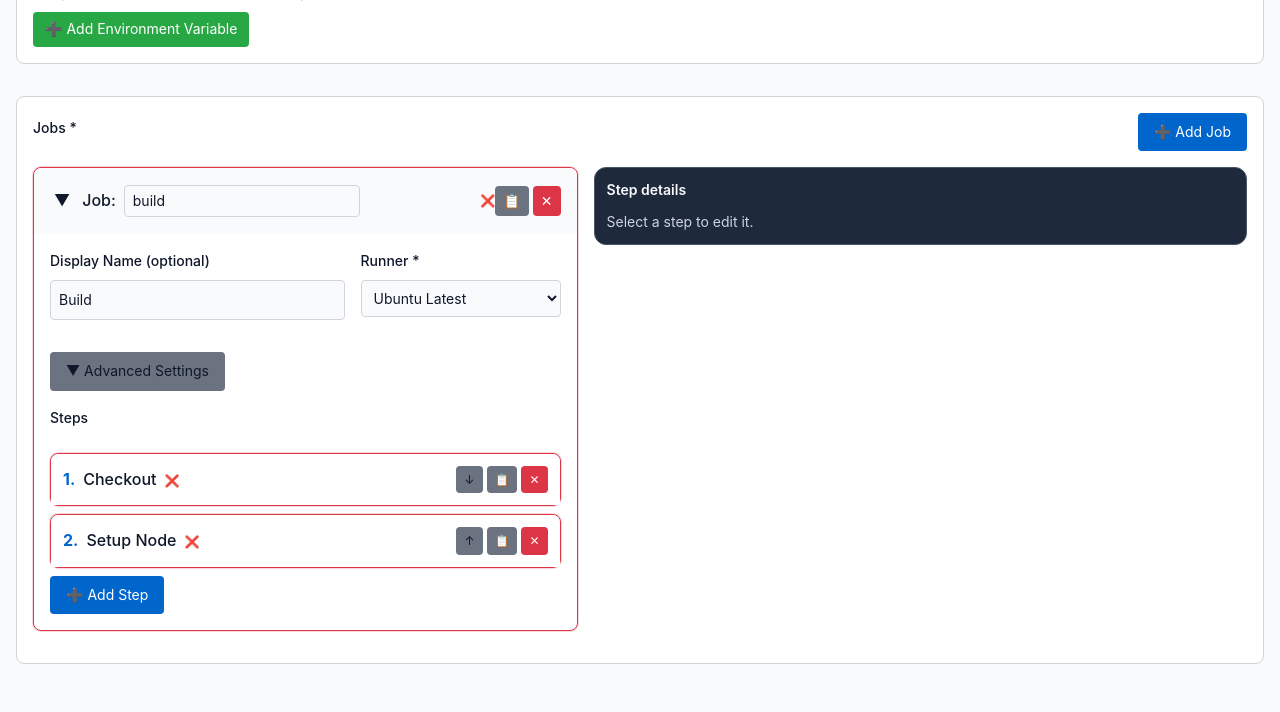
Test: GUIWorkflowEditor step detail panel › falls back to the empty state when the selected step is deleted
(page scrolled)
Click the button "1. Checkout".
click(110, 480)  # box 63,467 -> 157,493
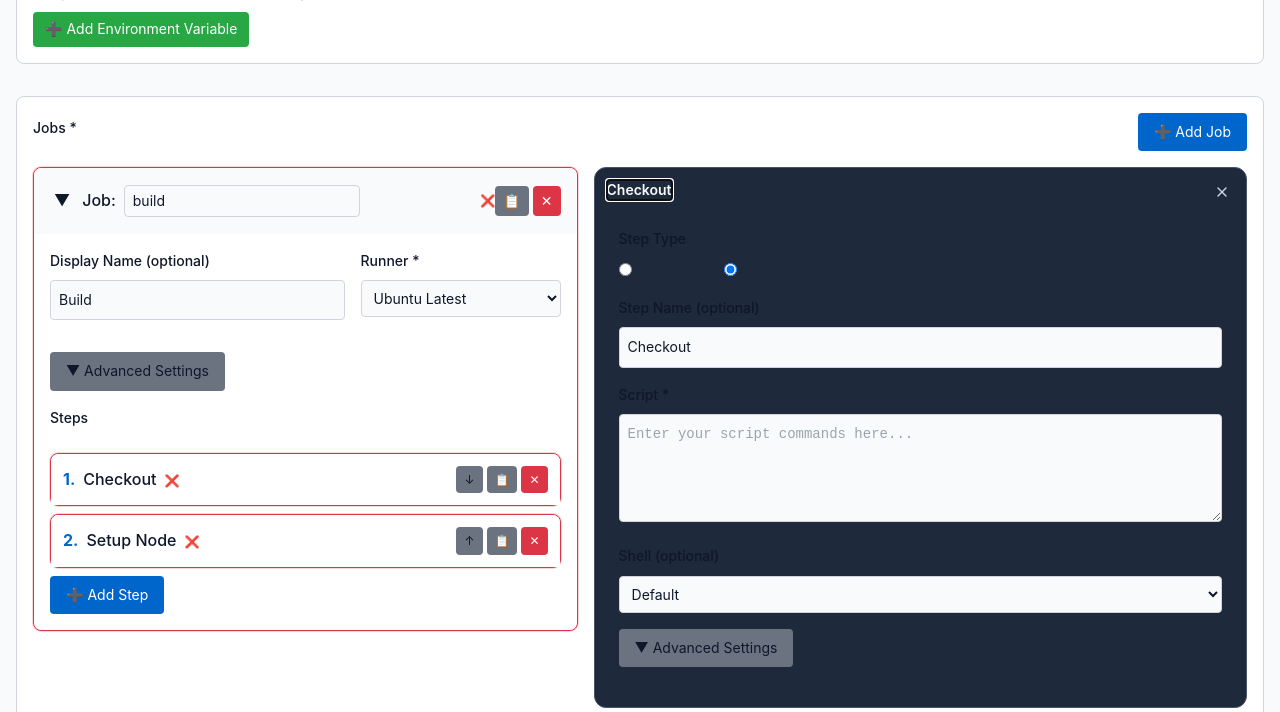
Click the 2nd button titled "Remove step".
click(535, 480)  # box 522,466 -> 548,494
(page scrolled)
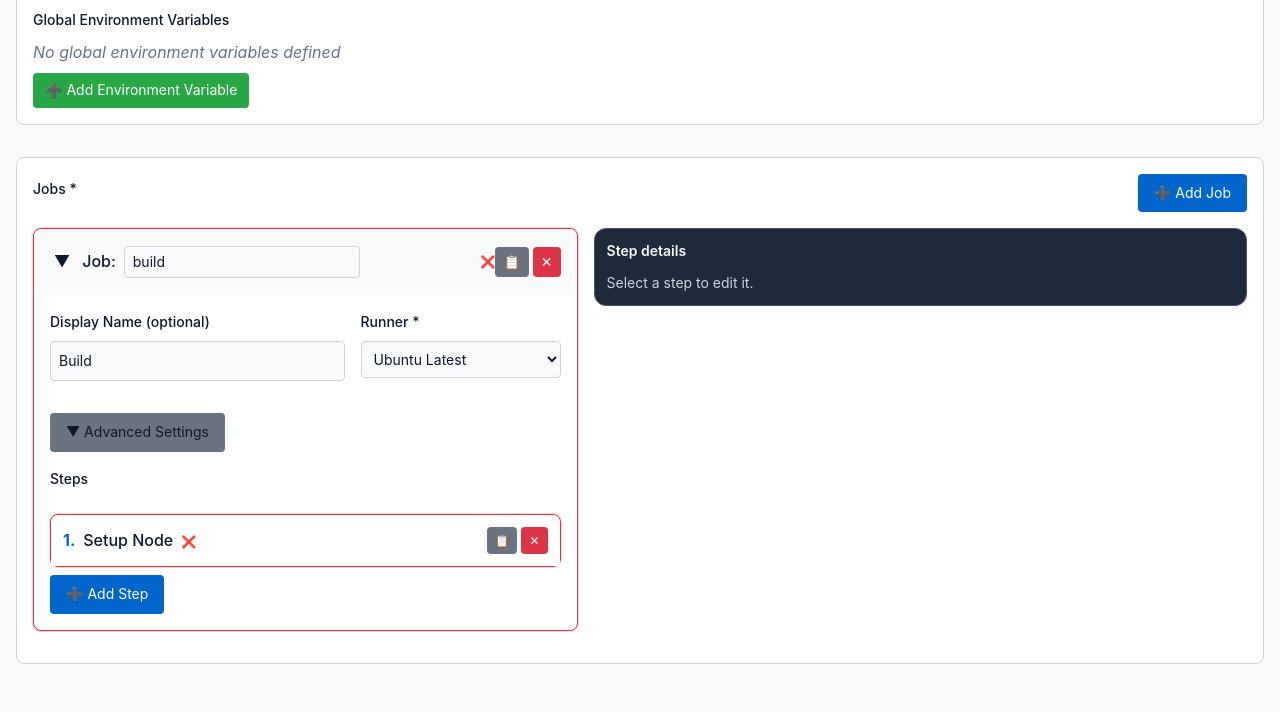
Check: the element showing "Step details Select a step to edit it." is shown, box 594,228 -> 1247,306
